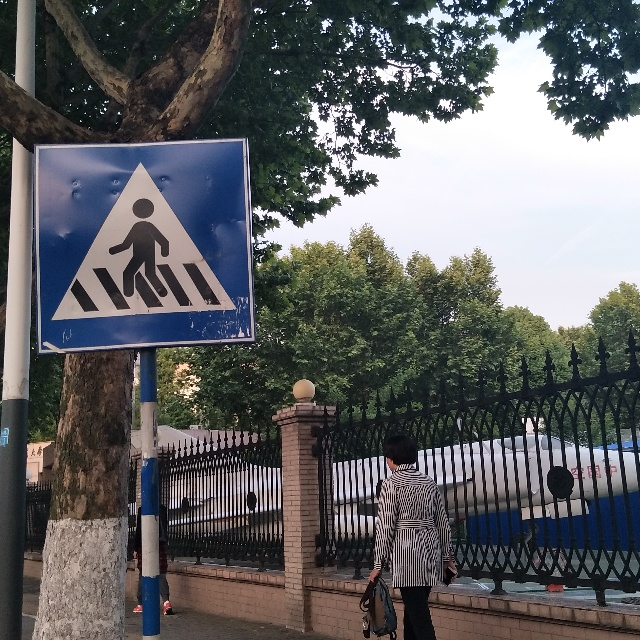crosswalk: (37, 147, 242, 337)
